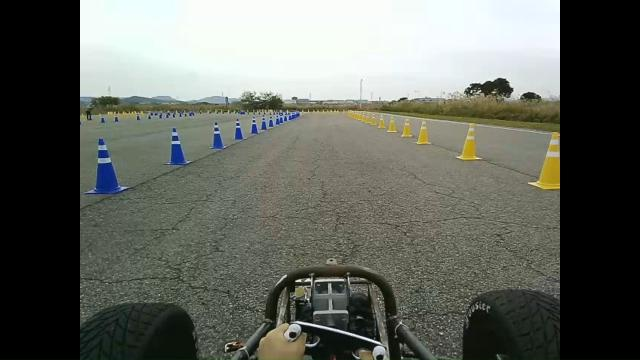blue cone: (84, 137, 130, 195), (163, 123, 195, 170), (208, 118, 228, 152), (232, 115, 246, 141), (252, 115, 260, 136)
yellow cone: (527, 131, 560, 190), (454, 122, 482, 161), (415, 120, 431, 144), (400, 118, 413, 138), (387, 115, 398, 132), (377, 114, 386, 128), (370, 114, 377, 126), (364, 113, 370, 124)
